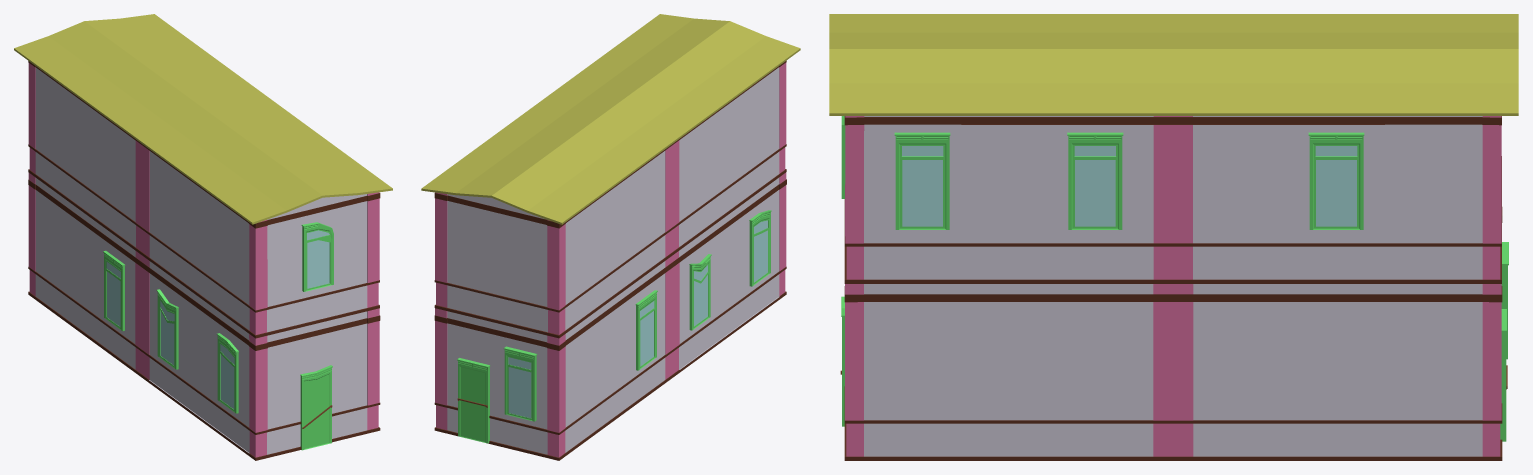
File: House_structure_00_V7.fbx
3 views of the same model, side by side, from view 1: azimuth 30°, elevation 25°; view 2: azimuth 150°, elevation 25°; view 3: azimuth 270°, elevation 25° (orthographic). The views are drawn at different scales.
Visible parts, largest first — view 1: House_structure_00.027; view 2: House_structure_00.027; view 3: House_structure_00.027.
Part boxes in pixels (x1,y1,x2,y2): House_structure_00.027: (14, 14, 392, 460); House_structure_00.027: (421, 14, 800, 460); House_structure_00.027: (829, 14, 1518, 460).
Size of the model in its own units: 417 by 720 by 1224.
